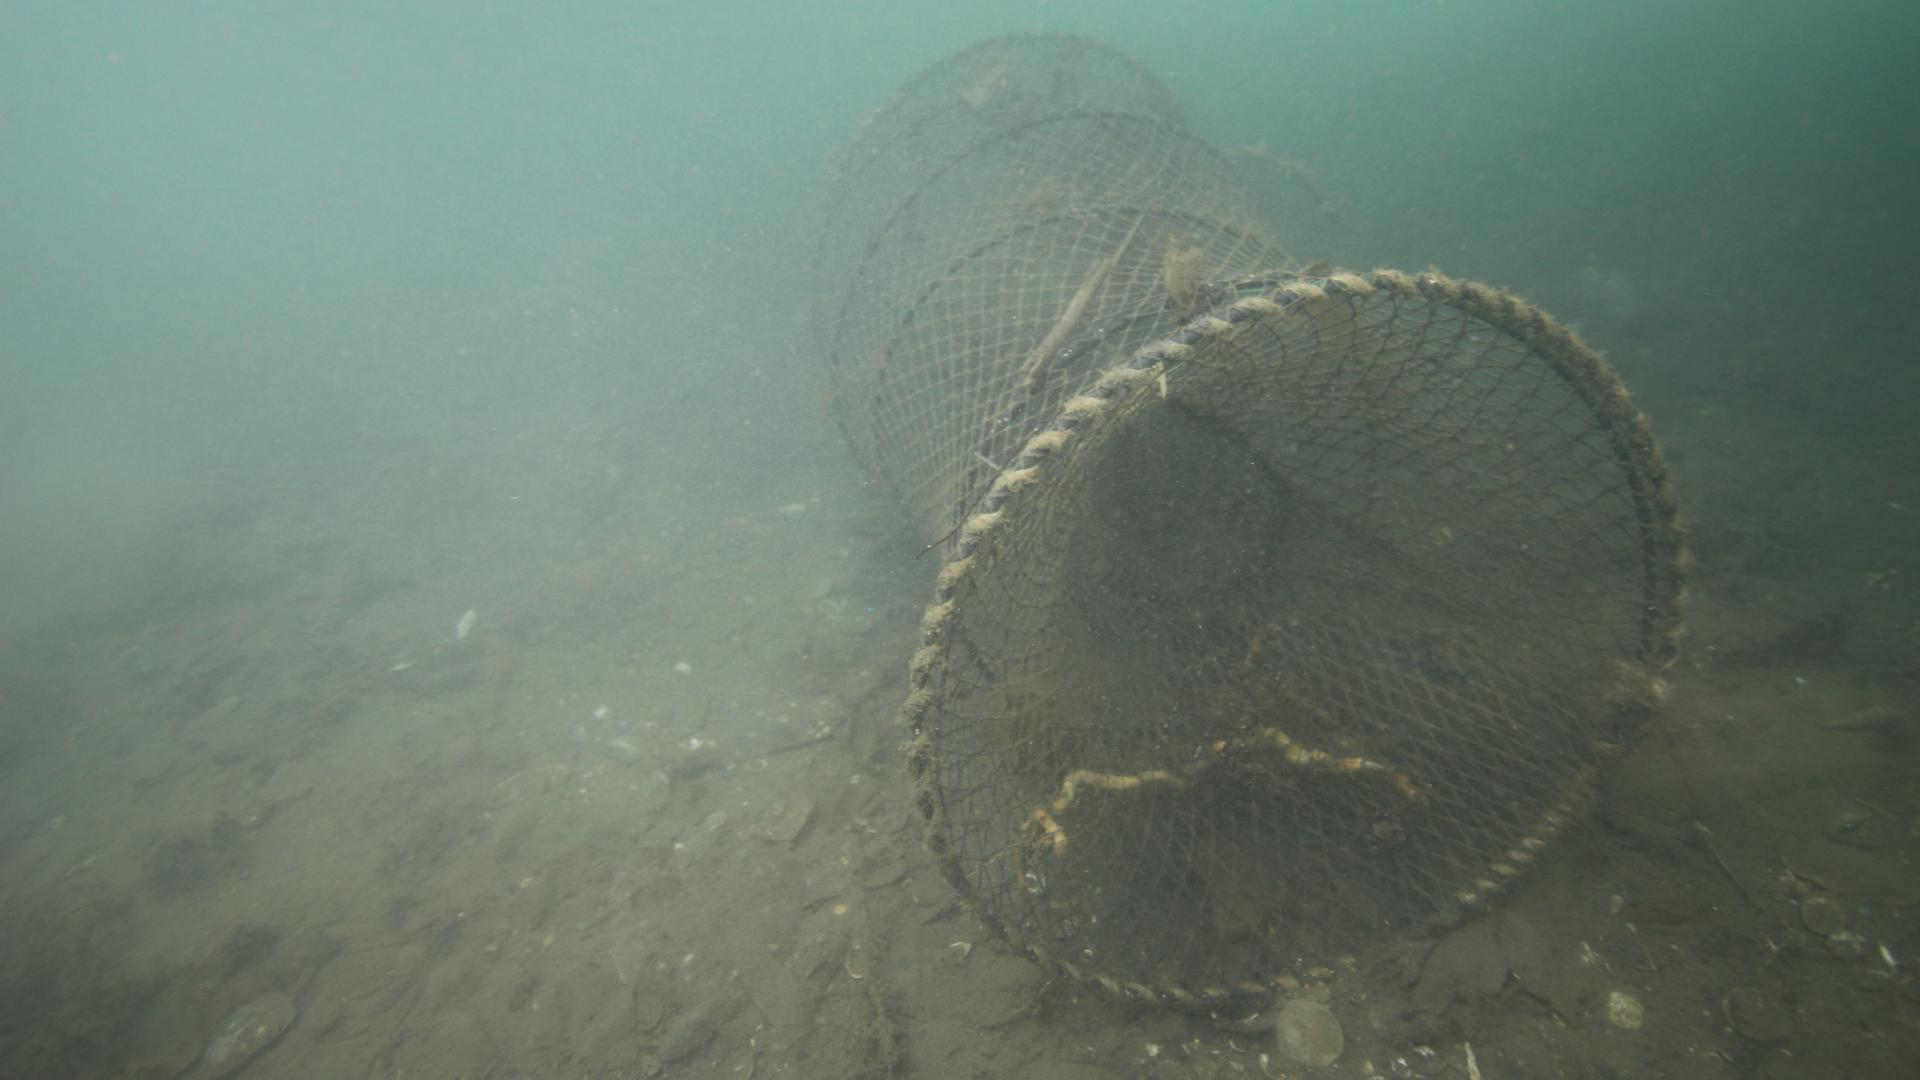spring fish trap: (804, 26, 1697, 1010)
